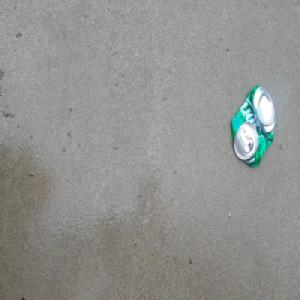SodaCan: (228, 83, 276, 170)
